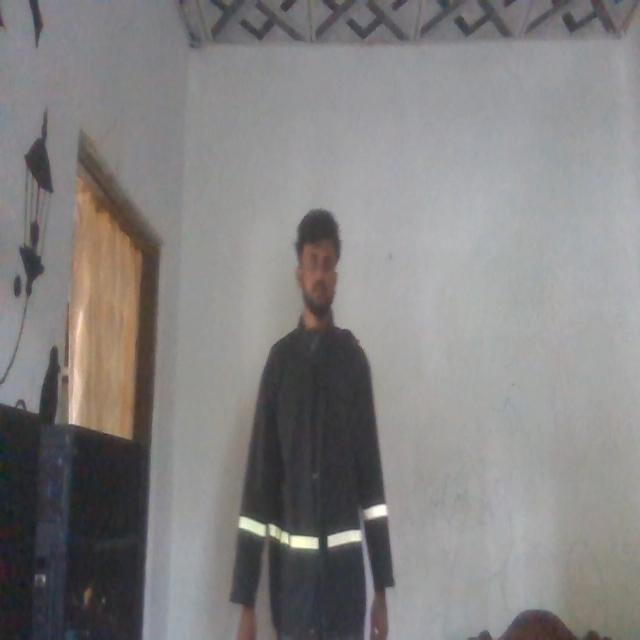Jacket_Wearer: (240, 322, 372, 615)
Person: (236, 214, 392, 640)
